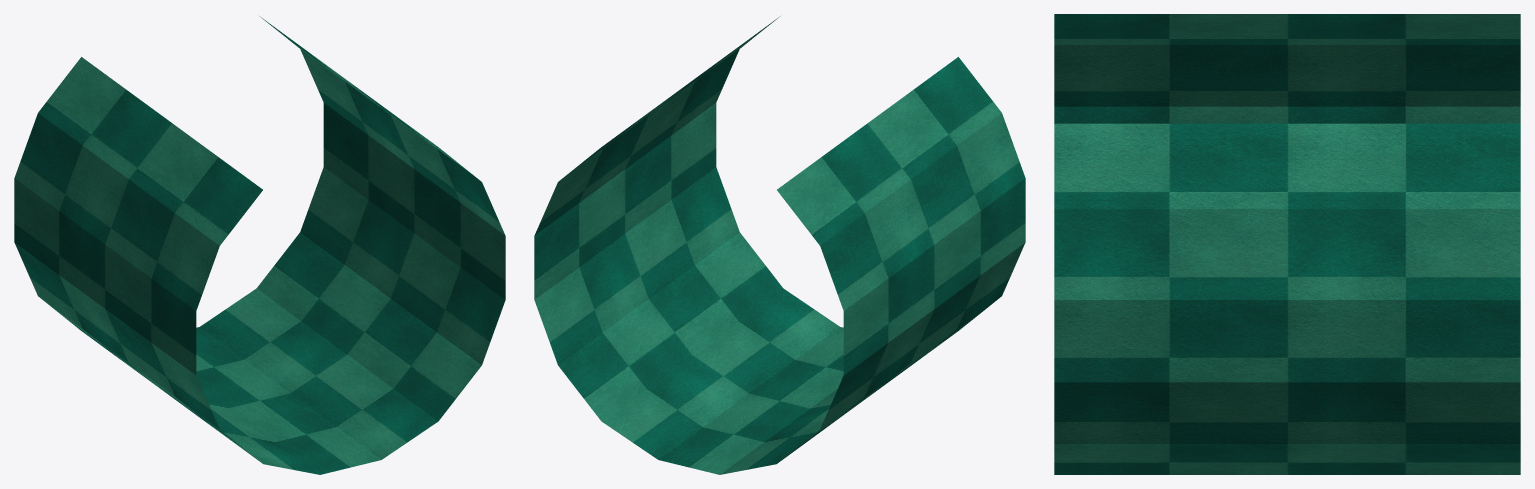
File: PartCircular_Cut.gltf
3 views of the same model, side by side, from view 1: azimuth 30°, elevation 25°; view 2: azimuth 150°, elevation 25°; view 3: azimuth 270°, elevation 25° (orthographic). The views are drawn at different scales.
Visible parts, largest first — view 1: Circle_glb; view 2: Circle_glb; view 3: Circle_glb.
Boxes of the visible parts, bbox=[...] form: Circle_glb: bbox=[14, 16, 505, 474]; Circle_glb: bbox=[534, 16, 1025, 474]; Circle_glb: bbox=[1054, 14, 1520, 474].
Size of what is drawn, in the model's own units: 3.93 by 3.63 by 4.
1 material, 1 textured.
